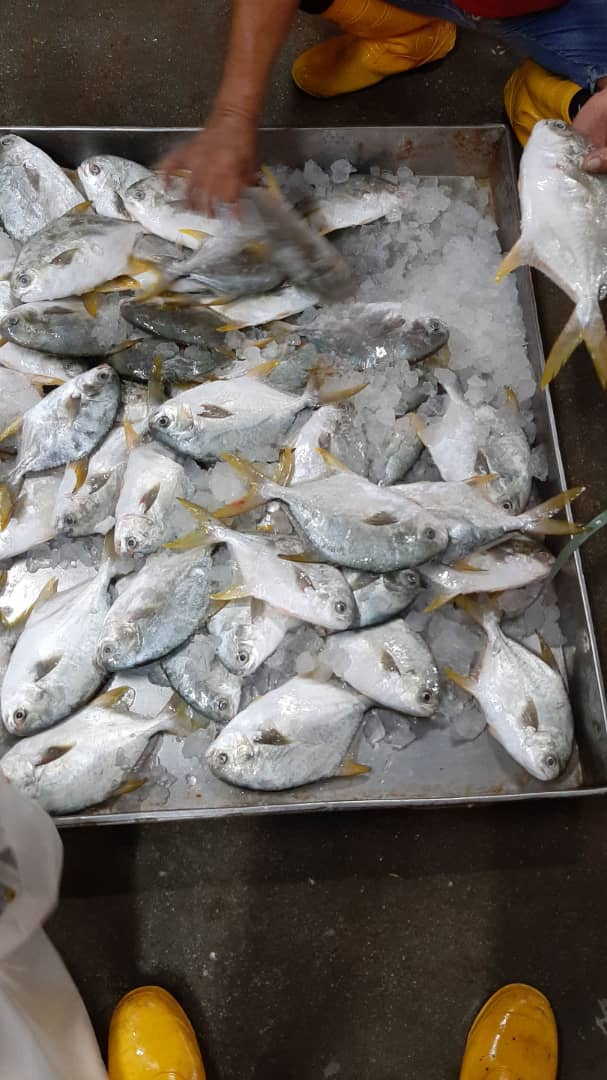Ikan Bawal: (450, 608, 598, 786), (212, 455, 452, 564), (171, 512, 372, 642), (135, 370, 364, 470), (193, 693, 412, 794), (11, 564, 124, 759), (3, 349, 129, 518), (6, 206, 164, 308)
